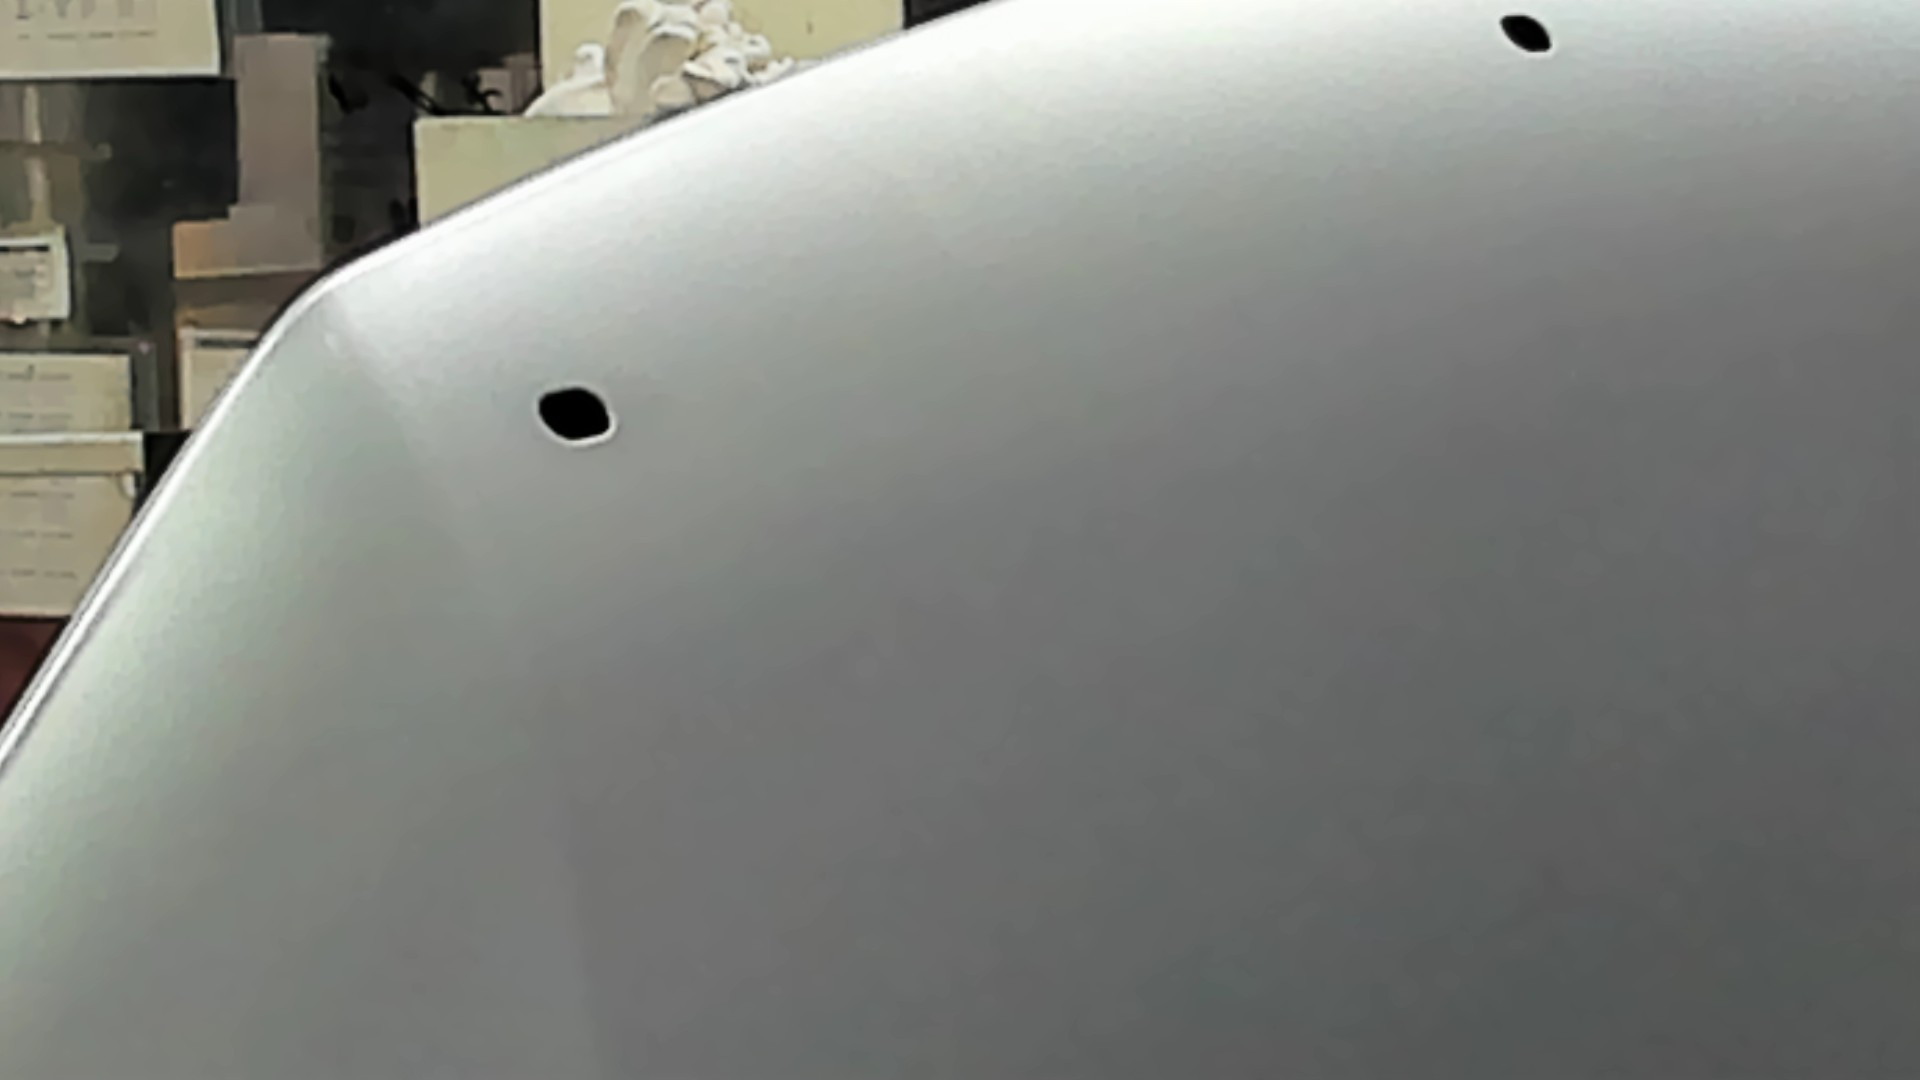amorfo: (527, 381, 622, 448), (1491, 7, 1559, 63)
capo: (774, 146, 1920, 1080)
